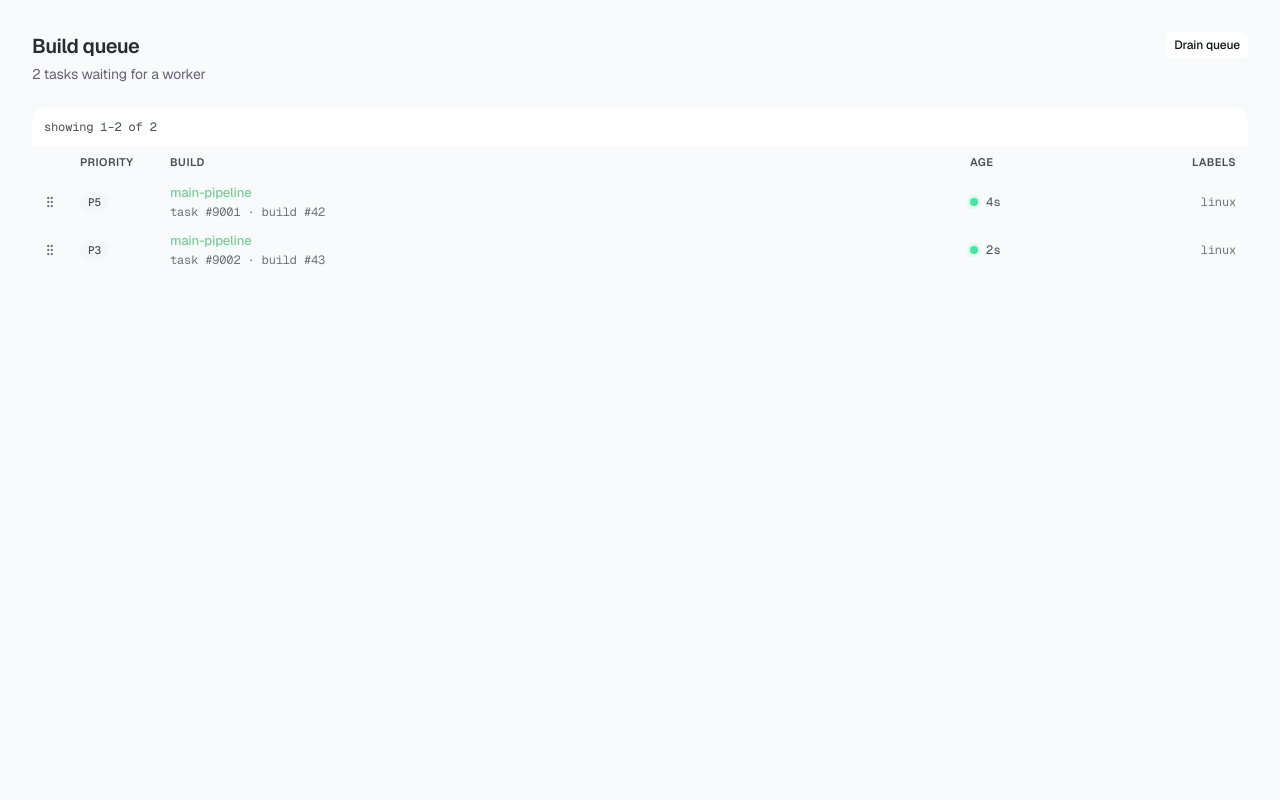
Queue page — themed Drain confirm dialog (#1040) › clicking "Drain queue" opens the themed ConfirmDialog (not native)
The width and height of the screenshot is (1280, 800).
Step 1. Click the button "Drain queue" → x=1207, y=45, box [1166,32,1248,58]
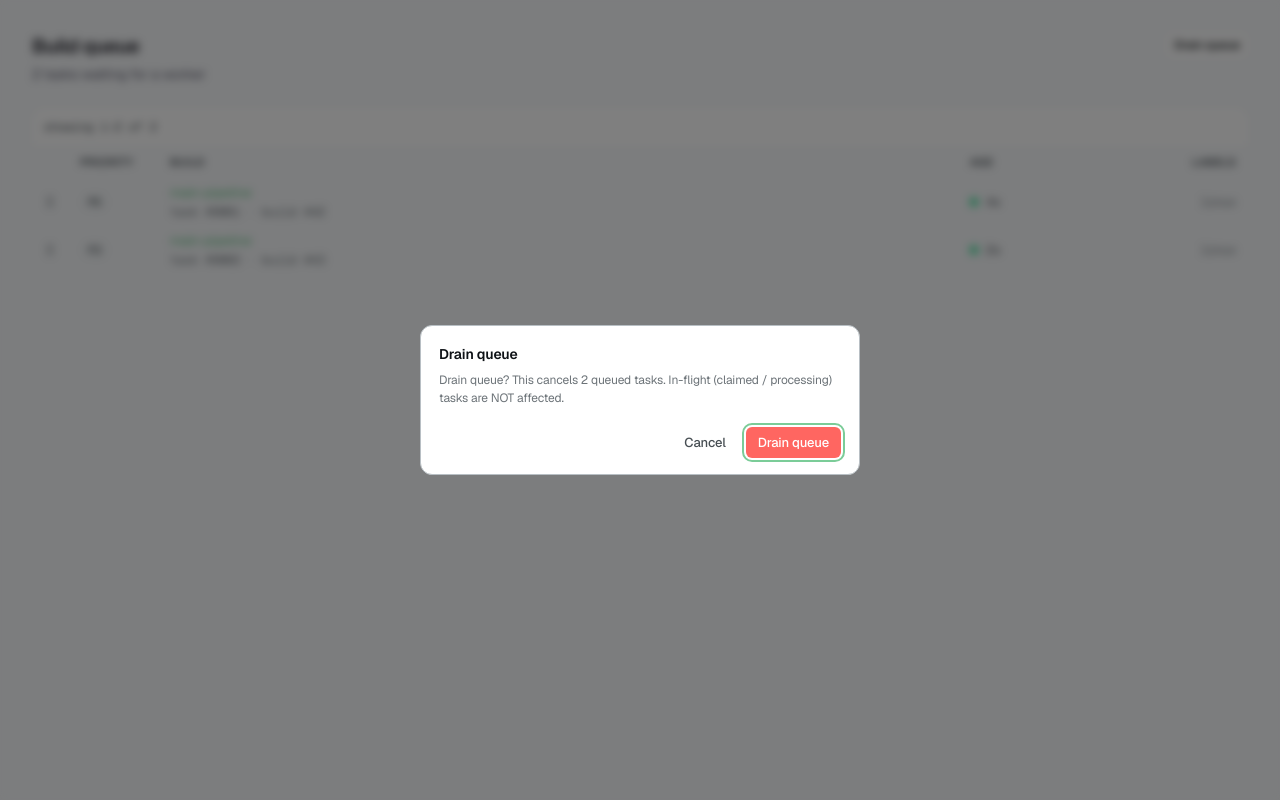
Result: the dialog with test id "drain-queue-dialog" is shown at [420,325,860,475]
Result: the button with test id "drain-queue-dialog-confirm" reads "Drain queue" at [746,427,841,458]
Result: the dialog with test id "drain-queue-dialog" shows "cancels 2 queued tasks" at [439,372,832,406]
